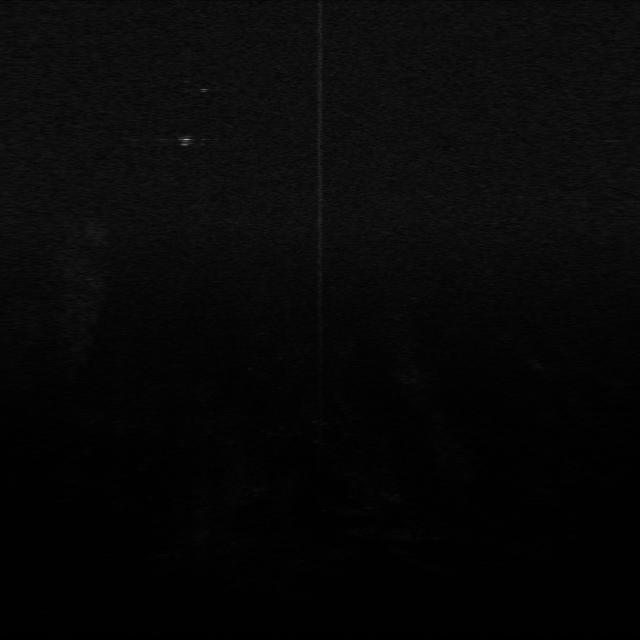rov: (172, 133, 199, 149)
